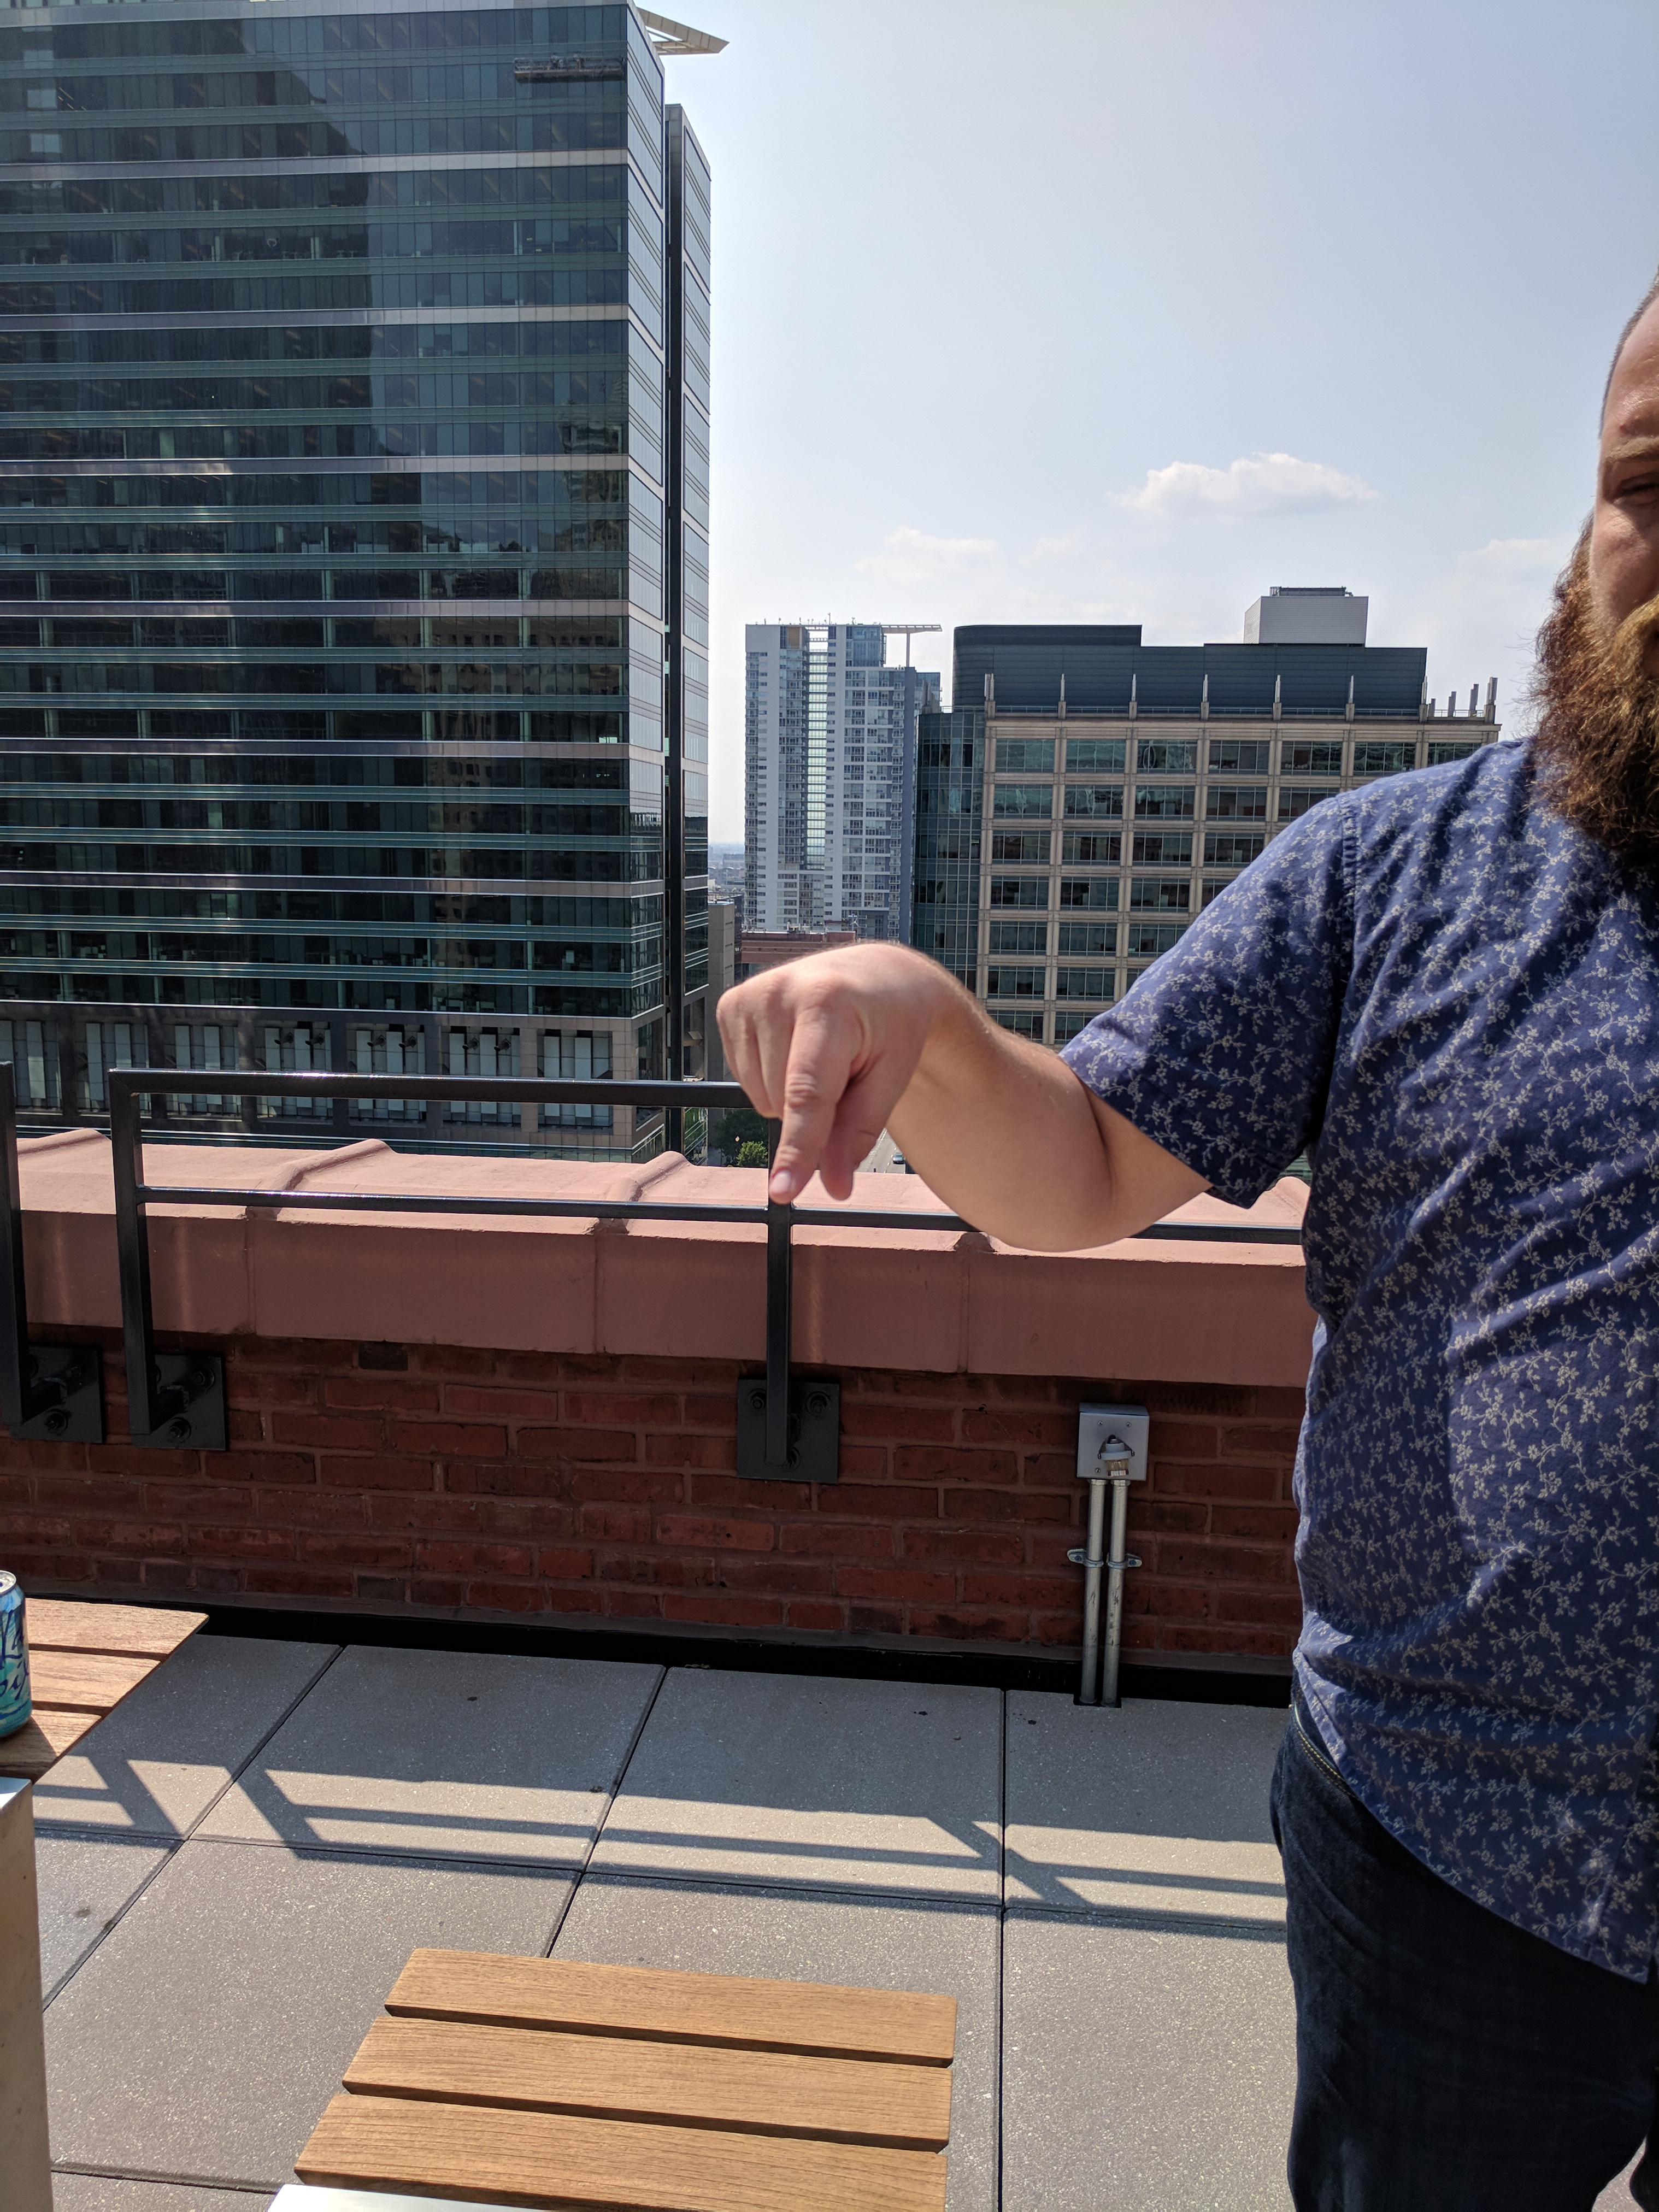q: (706, 941, 945, 1231)
